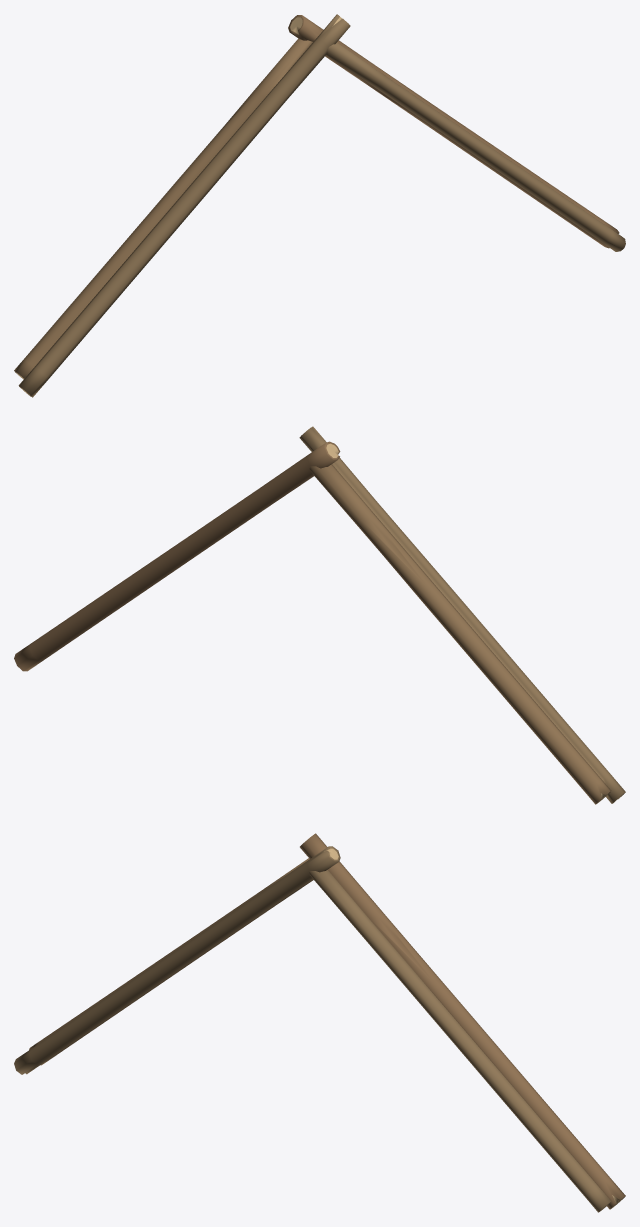
Rendered from rpgpp_ag_roof_01_9x4x3_end_01b.fbx.
3 views of the same model, one above another, from view 1: azimuth 30°, elevation 25°; view 2: azimuth 150°, elevation 25°; view 3: azimuth 330°, elevation 25° (orthographic).
Parts seen in each view (by area): view 1: rpgpp_ag_roof_01_9x4x3_end_01b; view 2: rpgpp_ag_roof_01_9x4x3_end_01b; view 3: rpgpp_ag_roof_01_9x4x3_end_01b.
Boxes of the visible parts, left/top/right/bottom form: rpgpp_ag_roof_01_9x4x3_end_01b: left=14, top=14, right=625, bottom=397; rpgpp_ag_roof_01_9x4x3_end_01b: left=14, top=426, right=625, bottom=804; rpgpp_ag_roof_01_9x4x3_end_01b: left=14, top=833, right=625, bottom=1212.
Size of the model in its own units: 13.59 by 6.58 by 0.8034.
